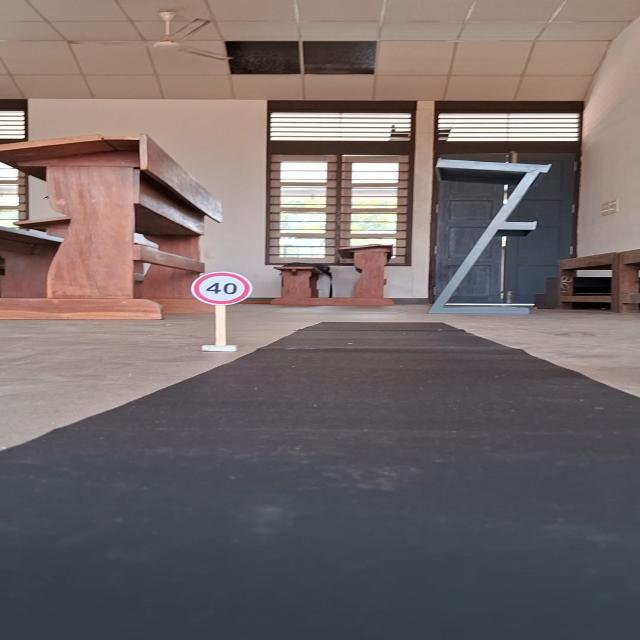Speed40: (190, 271, 254, 307)
